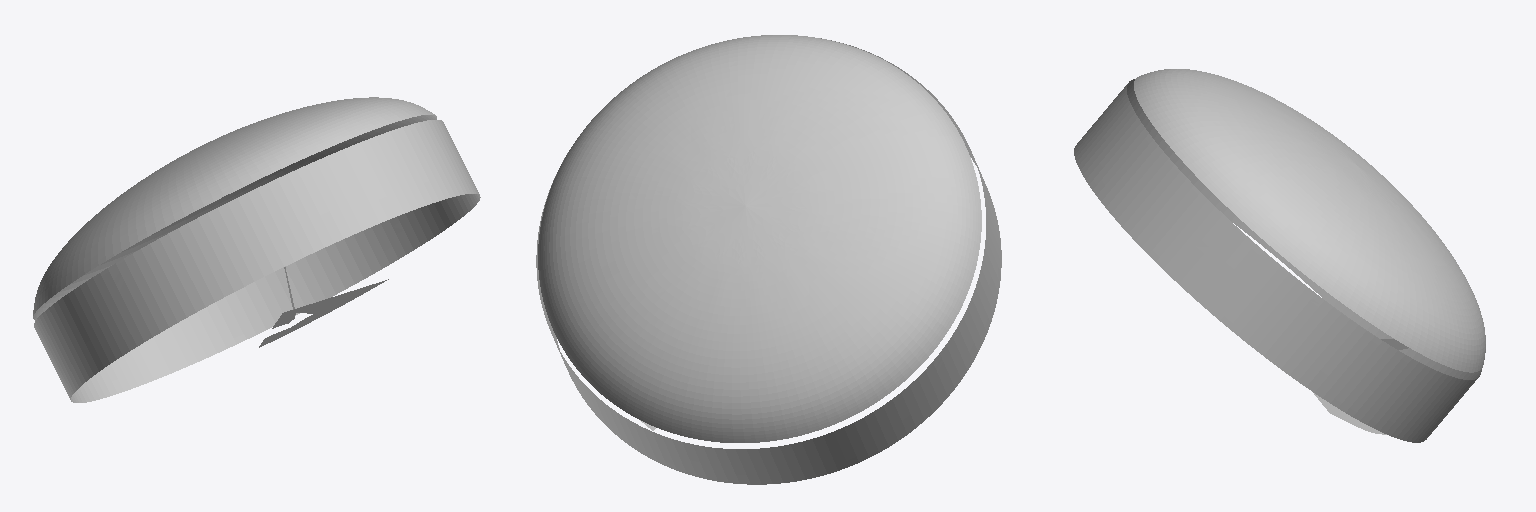
File: teddy-line.obj
The picture shows the model from 3 angles: view 1: azimuth 30°, elevation 25°; view 2: azimuth 150°, elevation 25°; view 3: azimuth 270°, elevation 25°; orthographic projection.
Parts seen in each view (by area): view 1: footBigLeft group4; view 2: footBigLeft group4; view 3: footBigLeft group4.
Boxes of the visible parts, x1,y1,x2,y2 form: footBigLeft group4: [33, 97, 480, 402]; footBigLeft group4: [536, 35, 1001, 484]; footBigLeft group4: [1074, 69, 1485, 442].
Size of the model in its own units: 1.38 by 1.1 by 1.22.